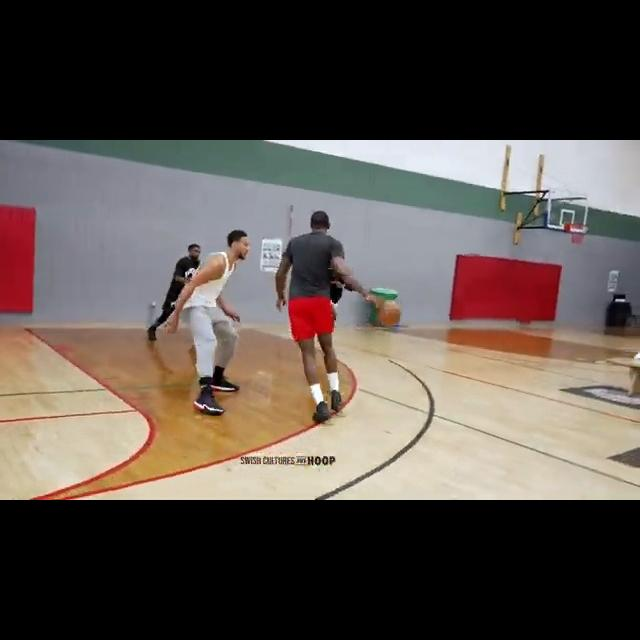basketball: (376, 298, 403, 327)
hoop: (568, 222, 587, 247)
